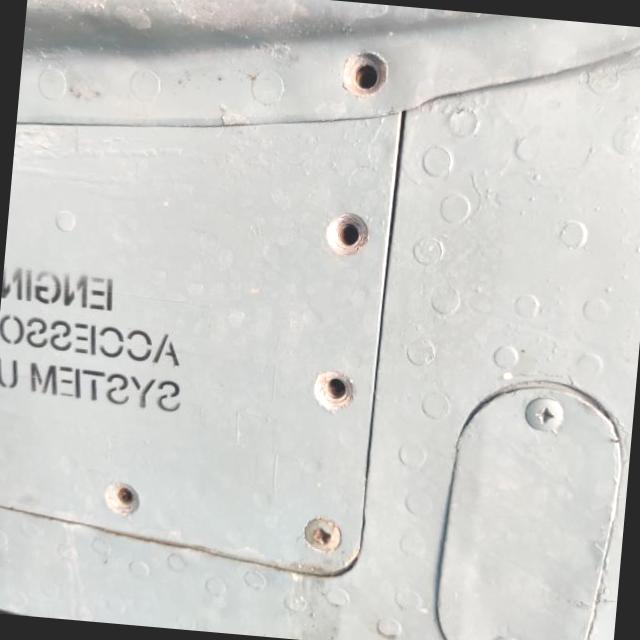Missing Fastener: (336, 46, 396, 108), (320, 206, 372, 262), (308, 366, 360, 417), (97, 477, 146, 522)
